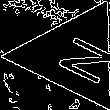N_NW: (36, 26, 109, 85)
